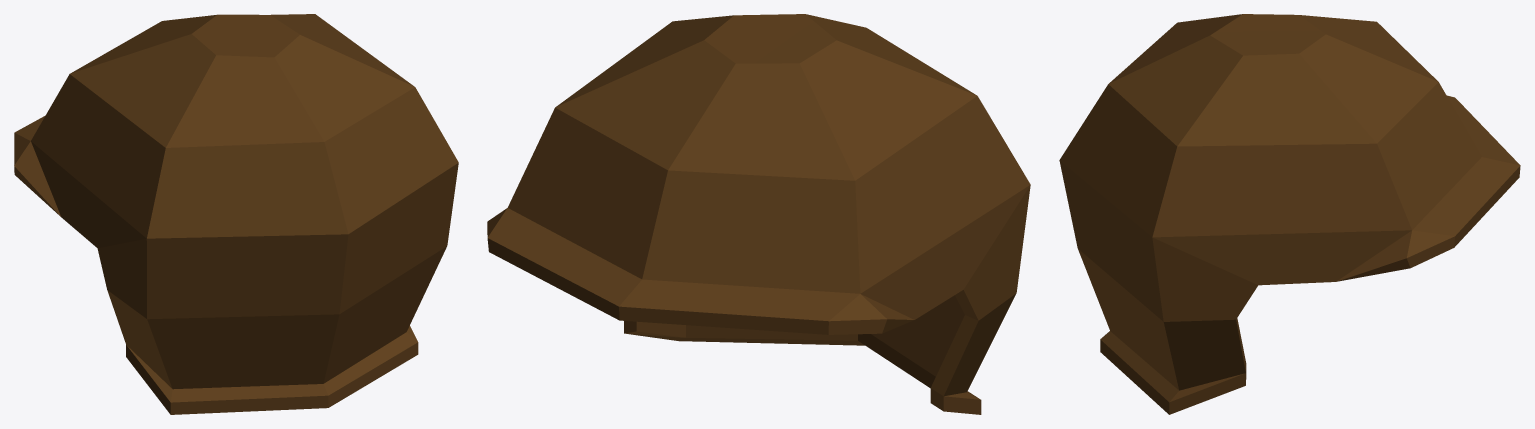
Rendered from WoodenHelmet.fbx.
3 views of the same model, side by side, from view 1: azimuth 30°, elevation 25°; view 2: azimuth 150°, elevation 25°; view 3: azimuth 270°, elevation 25° (orthographic). The views are drawn at different scales.
Parts seen in each view (by area): view 1: Wooden_Helmet; view 2: Wooden_Helmet; view 3: Wooden_Helmet.
Part boxes in pixels (box(x1,y1,x2,y2)): Wooden_Helmet: box(14, 14, 458, 414); Wooden_Helmet: box(487, 14, 1030, 414); Wooden_Helmet: box(1059, 14, 1520, 414).
Size of the model in its own units: 1.6 by 1.46 by 1.92.
